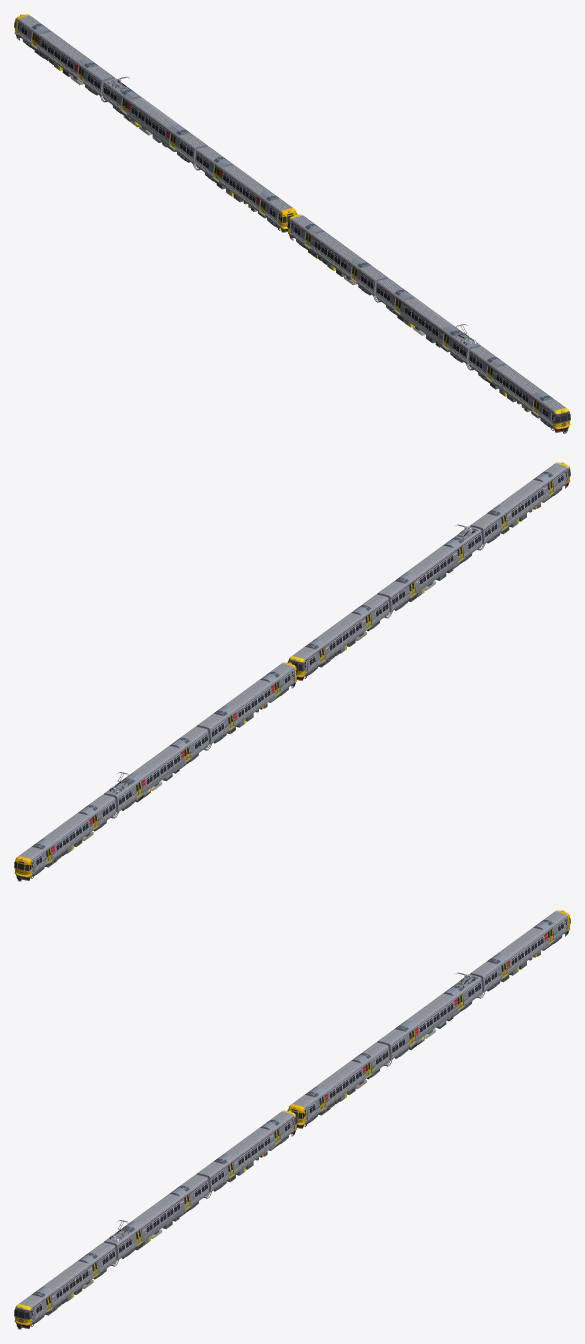
File: queensland_rail_emu_low_poly.glb
3 renders of one model, top to bottom at view 1: azimuth 30°, elevation 25°; view 2: azimuth 150°, elevation 25°; view 3: azimuth 330°, elevation 25°, orthographic.
Visible parts, largest first — view 1: Cube.004_Cube.000, Plane.001_Plane.000, Cube.022_Cube.000_Cube.022_Cube.002, Cube.022_Cube.000_Cube.022_Cube.003, Cube.022_Cube.000_Cube.022_Cube.001, Cube.004_Cube.005; view 2: Cube.022_Cube.000_Cube.022_Cube.001, Cube.022_Cube.000_Cube.022_Cube.002, Plane.001_Plane.000, Cube.004_Cube.005, Cube.004_Cube.000, Cube.022_Cube.000_Cube.022_Cube.003; view 3: Cube.004_Cube.000, Plane.001_Plane.000, Cube.022_Cube.000_Cube.022_Cube.002, Cube.022_Cube.000_Cube.022_Cube.003, Cube.022_Cube.000_Cube.022_Cube.001, Cube.004_Cube.005.
Boxes of the visible parts, x1,y1,x2,y2 form: Cube.004_Cube.000: (468, 346, 570, 433); Plane.001_Plane.000: (376, 278, 481, 364); Cube.022_Cube.000_Cube.022_Cube.002: (102, 76, 207, 164); Cube.022_Cube.000_Cube.022_Cube.003: (195, 146, 297, 232); Cube.022_Cube.000_Cube.022_Cube.001: (14, 14, 115, 96); Cube.004_Cube.005: (287, 214, 388, 296); Cube.022_Cube.000_Cube.022_Cube.001: (14, 794, 116, 881); Cube.022_Cube.000_Cube.022_Cube.002: (103, 726, 208, 812); Plane.001_Plane.000: (377, 524, 482, 612); Cube.004_Cube.005: (287, 594, 389, 680); Cube.004_Cube.000: (469, 462, 570, 544); Cube.022_Cube.000_Cube.022_Cube.003: (196, 662, 297, 744); Cube.004_Cube.000: (14, 1242, 116, 1329); Plane.001_Plane.000: (103, 1174, 208, 1260); Cube.022_Cube.000_Cube.022_Cube.002: (377, 972, 482, 1060); Cube.022_Cube.000_Cube.022_Cube.003: (287, 1042, 389, 1128); Cube.022_Cube.000_Cube.022_Cube.001: (469, 910, 570, 992); Cube.004_Cube.005: (196, 1110, 297, 1192).
Size of the model in its own units: 3.49 by 6.51 by 191.
Materials: 9 (9 with a texture image).
